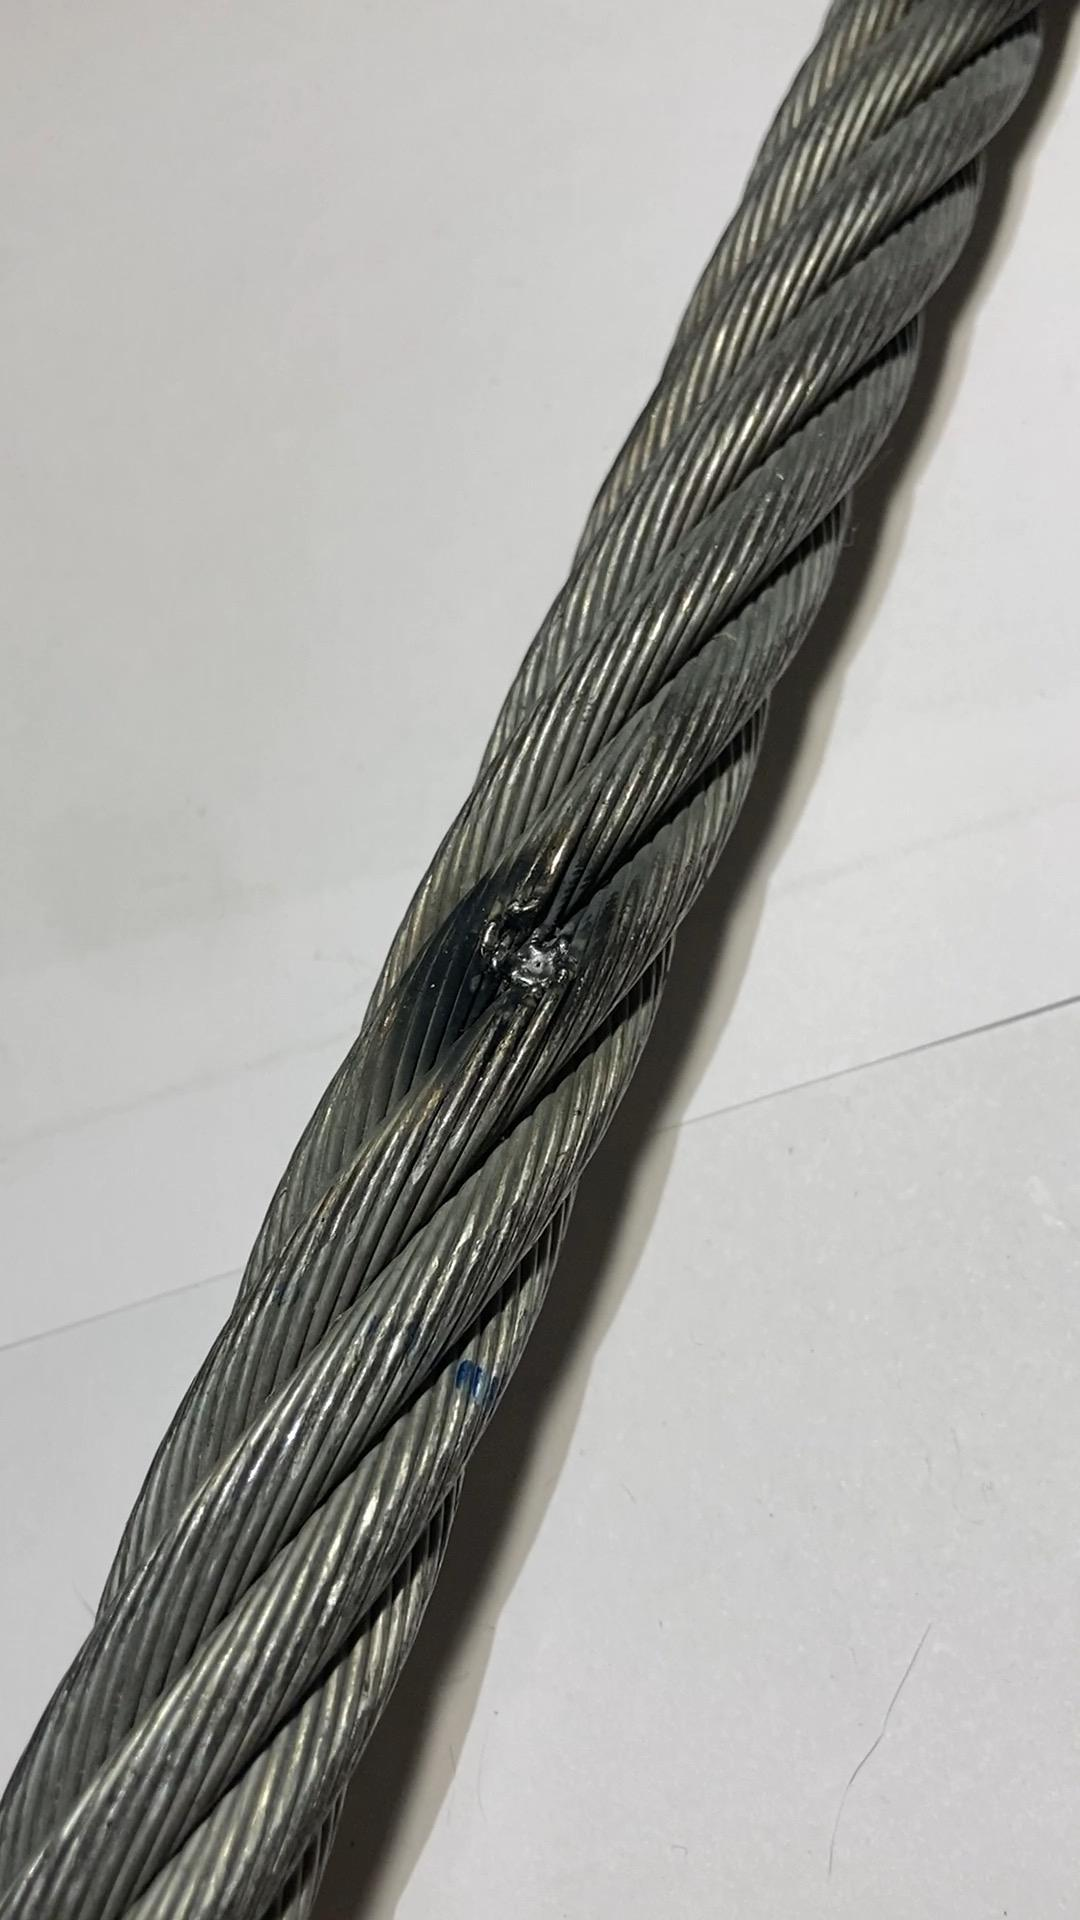thunderbolt: (462, 851, 621, 1030)
